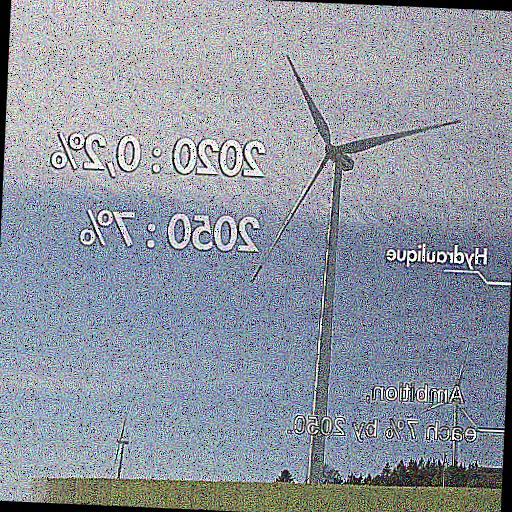wind turbine: (251, 54, 462, 484)
